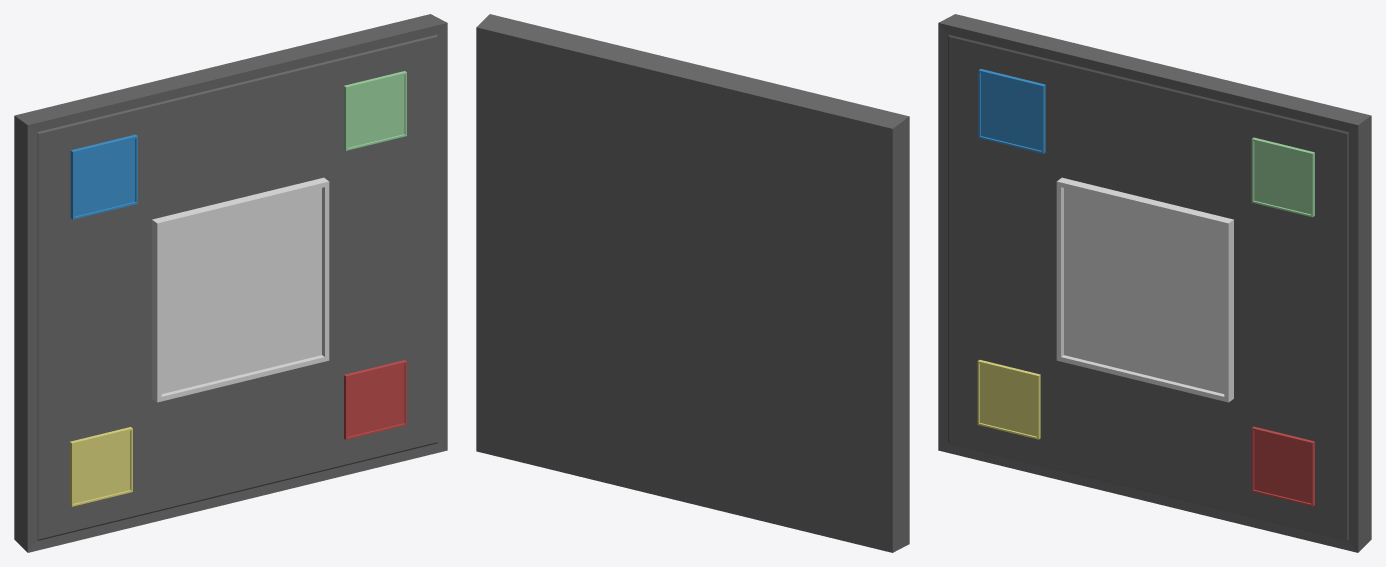
The model's file is HUB - Cube Collector.fbx.
3 views of the same model, side by side, from view 1: azimuth 30°, elevation 25°; view 2: azimuth 150°, elevation 25°; view 3: azimuth 330°, elevation 25° (orthographic).
Parts seen in each view (by area): view 1: pCube410, pCube336, pCube426, pCube338, pCube339, pCube340; view 2: pCube410; view 3: pCube410, pCube336, pCube426, pCube340, pCube338, pCube339.
Boxes of the visible parts, box(x1,y1,x2,y2) form: pCube410: box(14, 14, 447, 552); pCube336: box(152, 177, 329, 402); pCube426: box(70, 134, 137, 219); pCube338: box(69, 427, 132, 506); pCube339: box(344, 360, 406, 439); pCube340: box(344, 71, 406, 150); pCube410: box(476, 14, 909, 552); pCube410: box(938, 14, 1371, 552); pCube336: box(1056, 177, 1233, 402); pCube426: box(978, 69, 1045, 153); pCube340: box(1251, 137, 1314, 217); pCube338: box(977, 360, 1040, 439); pCube339: box(1251, 426, 1314, 506).
Bounding box in the file's own units: 8.69 × 8.46 × 0.7449.
